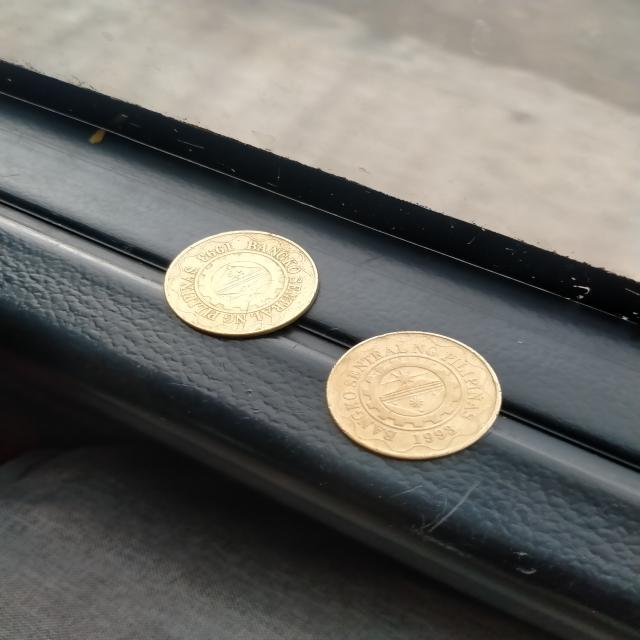5_Old_Back: (317, 328, 511, 469), (158, 227, 322, 337)
